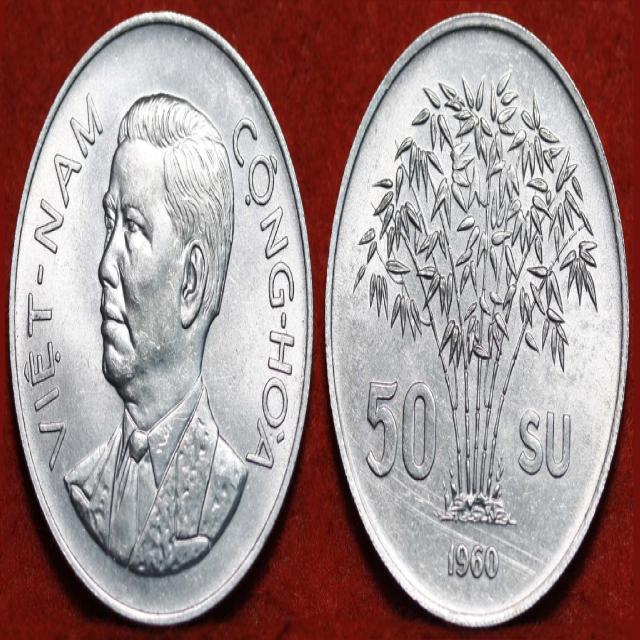Coin: (8, 7, 315, 632), (325, 5, 630, 633)
